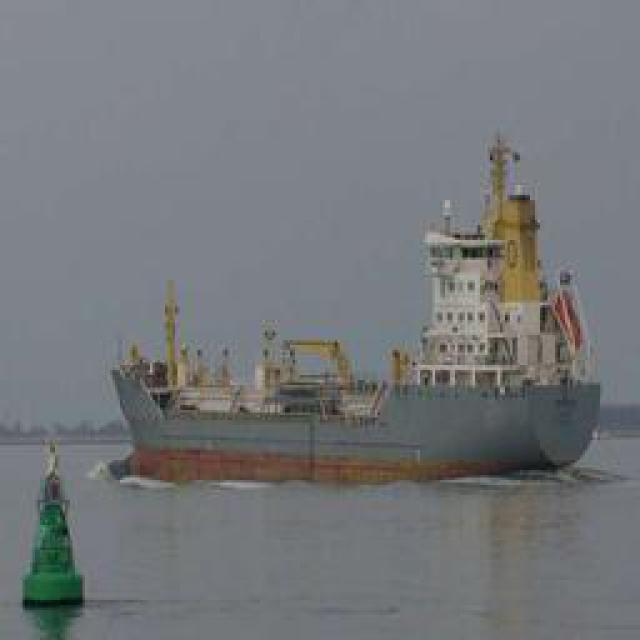Ship: (368, 133, 593, 481)
